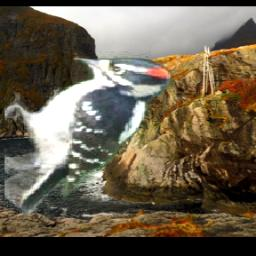Woodpecker: (5, 51, 174, 215)
